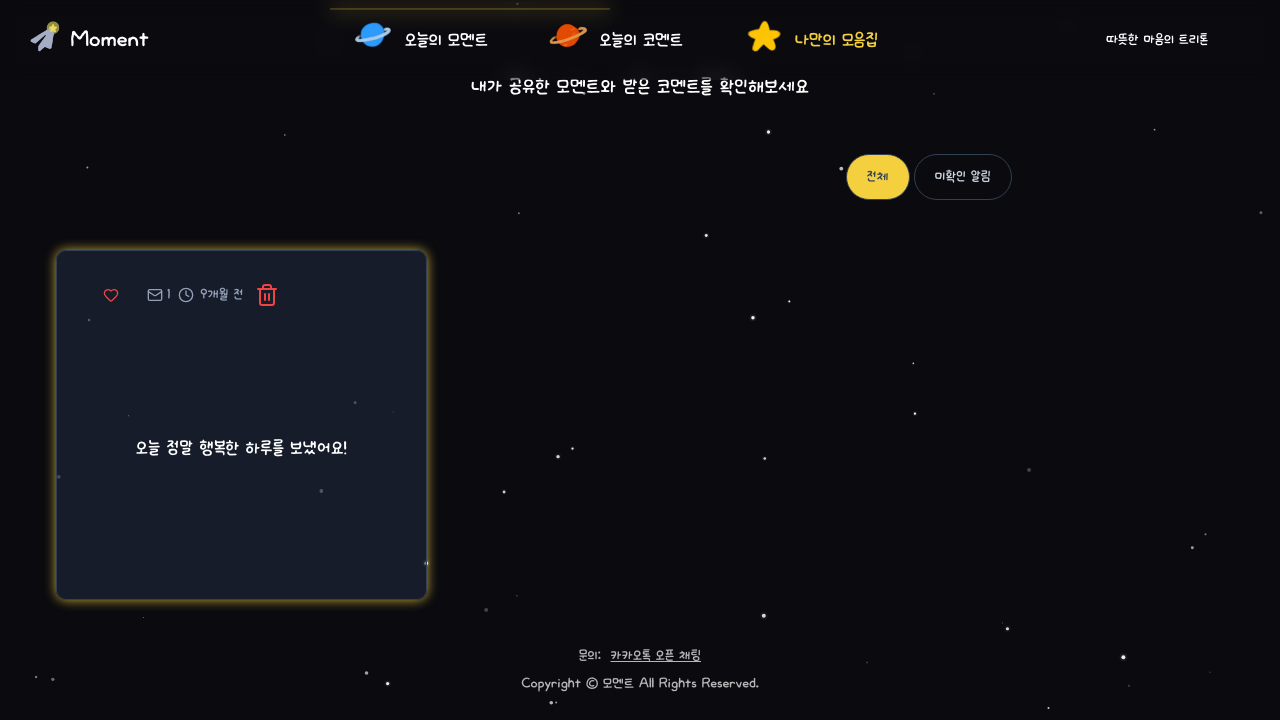
it: 나의 모멘트 모음집 페이지 › 시나리오 2: 상세 동작 › 코멘트가 있는 모멘트를 클릭하면 모달이 열린다
(page scrolled)
Click the text "오늘 정말 행복한 하루를 보냈어요!" at point(242, 448), box x1=136 y1=437 x2=347 y2=459
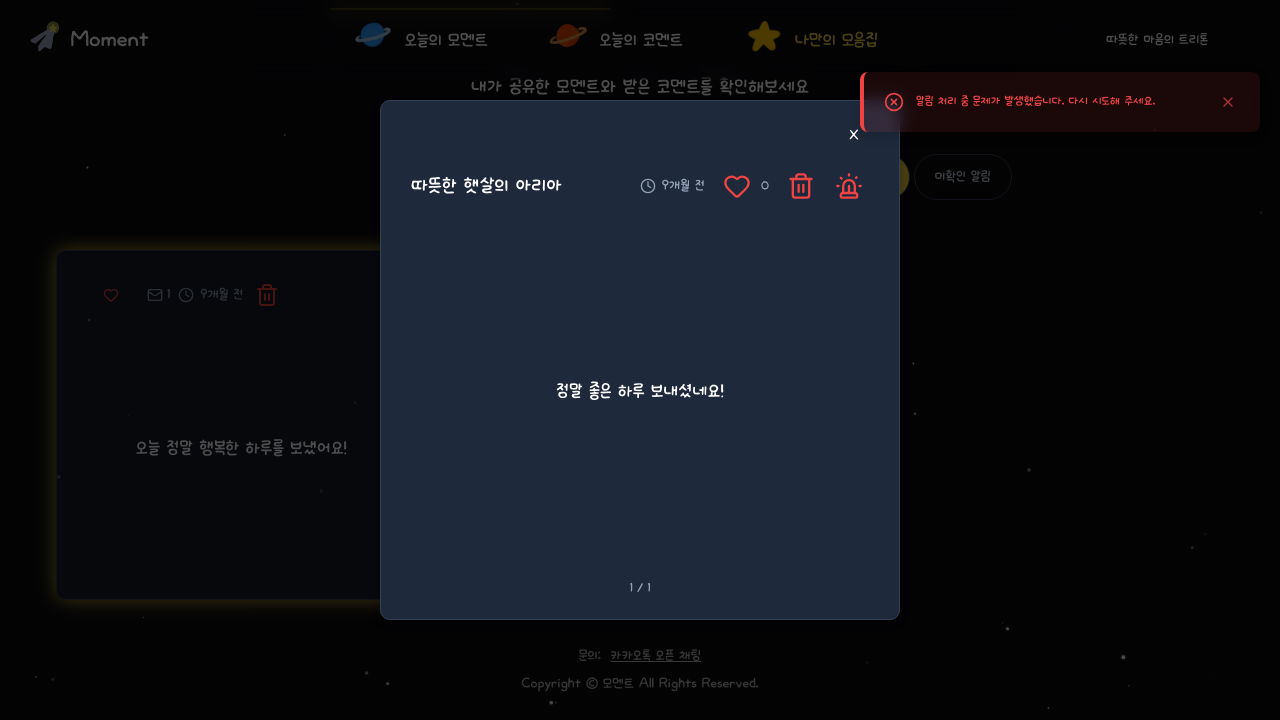
Expected: the dialog is shown, x1=380 y1=100 x2=900 y2=620
Expected: the text "정말 좋은 하루 보내셨네요!" is shown, x1=556 y1=380 x2=724 y2=402
